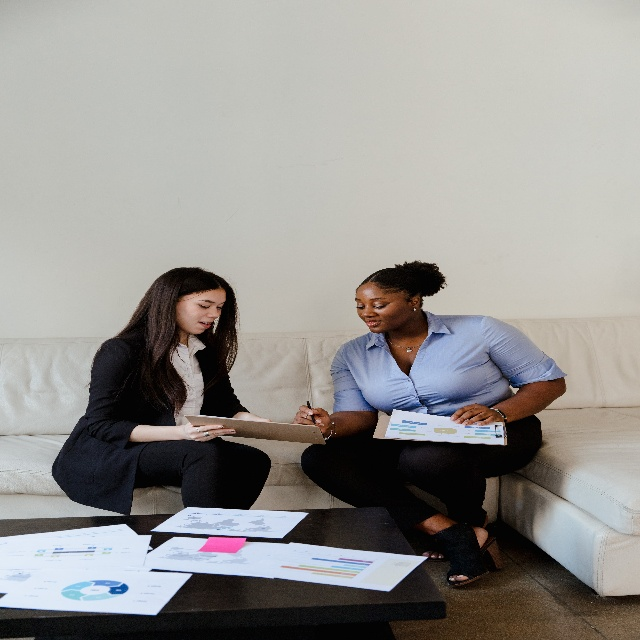Sin_guantes: (450, 403, 503, 426), (293, 404, 331, 434), (183, 421, 236, 442)
